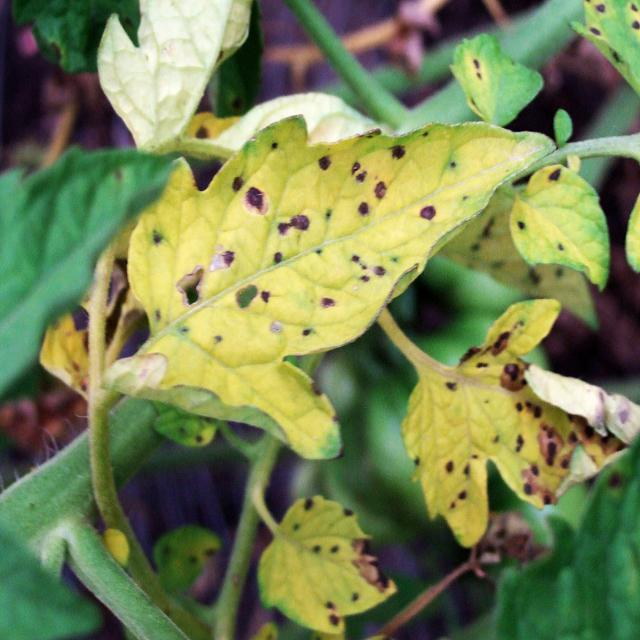Bacterial Spot: (130, 130, 454, 340), (437, 346, 621, 507), (290, 493, 389, 628), (516, 168, 576, 254), (584, 0, 640, 64), (460, 54, 495, 87)
